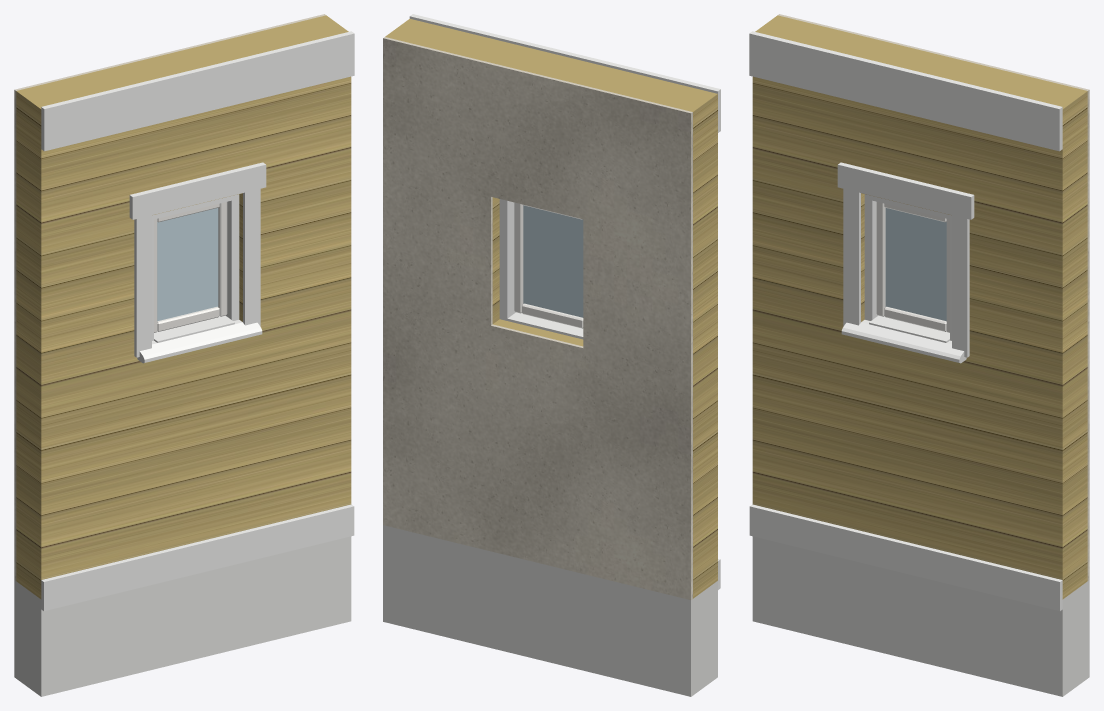
Rendered from wall_b_small.glb.
The picture shows the model from 3 angles, left to right: view 1: azimuth 30°, elevation 25°; view 2: azimuth 150°, elevation 25°; view 3: azimuth 330°, elevation 25°; orthographic projection.
Parts seen in each view (by area): view 1: wall_b_small_siding_b, wall_b_small_trim, wall_b_small_lattice, wall_b_small_glass, wall_b_small_sash, wall_b_small_frame, wall_b_small_plaster; view 2: wall_b_small_plaster, wall_b_small_lattice, wall_b_small_siding_b, wall_b_small_glass, wall_b_small_trim, wall_b_small_frame, wall_b_small_sash; view 3: wall_b_small_siding_b, wall_b_small_trim, wall_b_small_lattice, wall_b_small_glass, wall_b_small_sash, wall_b_small_frame, wall_b_small_plaster.
Part boxes in pixels (x1,y1,x2,y2): wall_b_small_siding_b: [16, 15, 351, 599]; wall_b_small_trim: [41, 31, 354, 611]; wall_b_small_lattice: [14, 536, 351, 696]; wall_b_small_glass: [157, 208, 218, 321]; wall_b_small_sash: [154, 202, 227, 332]; wall_b_small_frame: [152, 194, 239, 340]; wall_b_small_plaster: [14, 14, 325, 580]; wall_b_small_plaster: [383, 37, 692, 599]; wall_b_small_lattice: [383, 525, 717, 696]; wall_b_small_siding_b: [385, 19, 717, 598]; wall_b_small_glass: [523, 205, 583, 317]; wall_b_small_trim: [409, 14, 720, 589]; wall_b_small_frame: [499, 199, 515, 320]; wall_b_small_sash: [514, 202, 583, 328]; wall_b_small_siding_b: [752, 15, 1087, 599]; wall_b_small_trim: [749, 31, 1062, 611]; wall_b_small_lattice: [752, 536, 1089, 696]; wall_b_small_glass: [885, 208, 946, 321]; wall_b_small_sash: [876, 202, 949, 332]; wall_b_small_frame: [864, 194, 951, 340]; wall_b_small_plaster: [778, 14, 1089, 580].
Size of the model in its own units: 2 by 3.63 by 0.38.
Materials: 7 (2 with a texture image).
